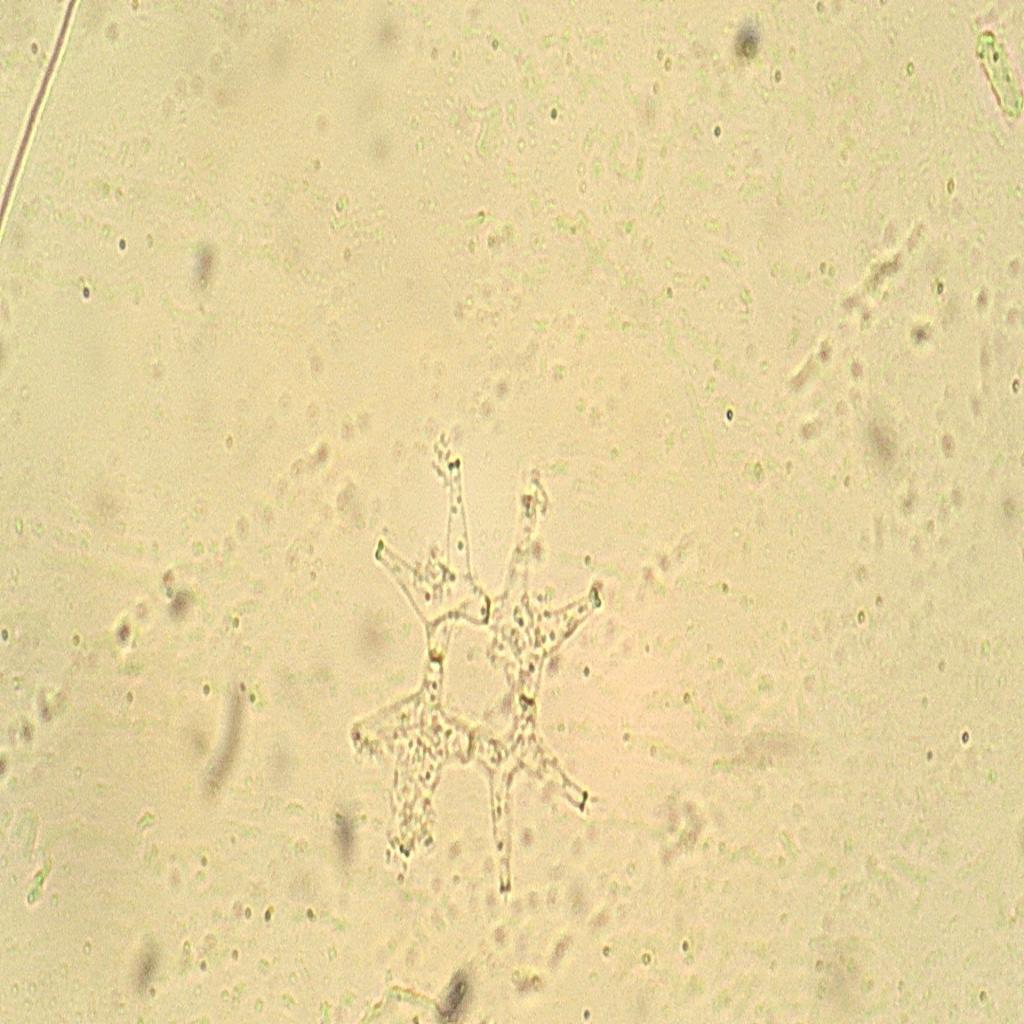Pediastrum_75TH: (342, 431, 622, 920)
